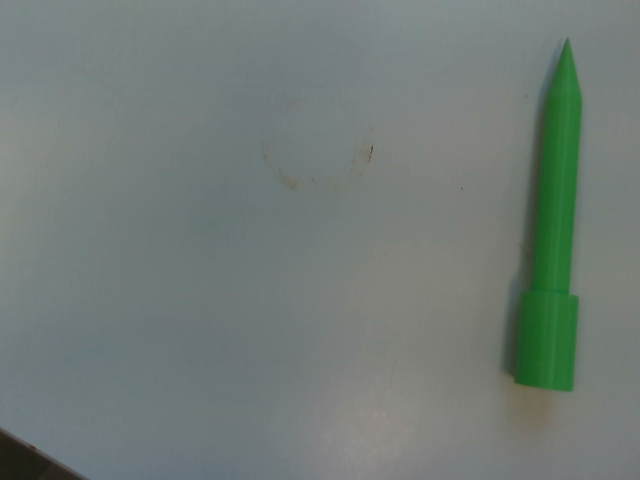Probe: (507, 31, 594, 400)
